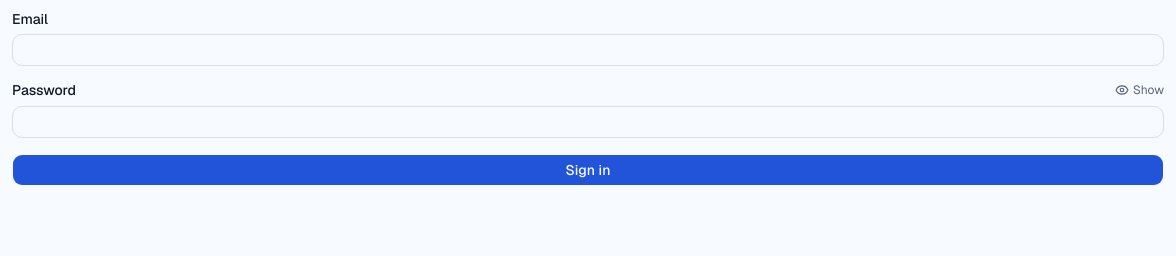
Test: LoginForm › shows the inactive-account message from a FORBIDDEN failure
The image size is (1176, 256).
Type "ada@example.com" into the field labelled "Email".
click(588, 50); type("ada@example.com")  # box [12, 34, 1164, 66]
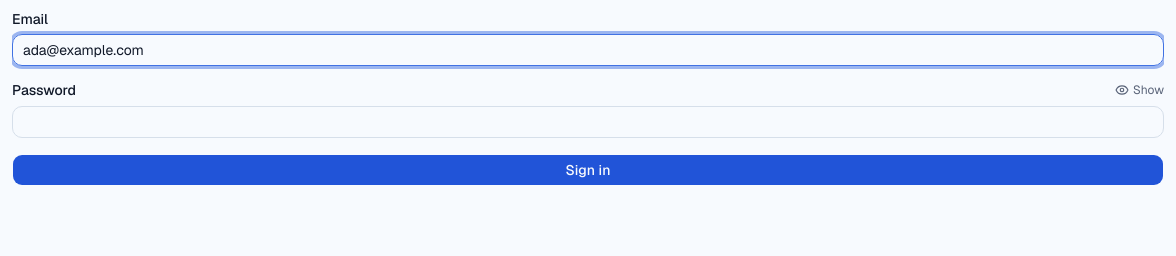
Type "correct horse battery" into the password field labelled "Password".
click(588, 122); type("correct horse battery")  # box [12, 106, 1164, 138]
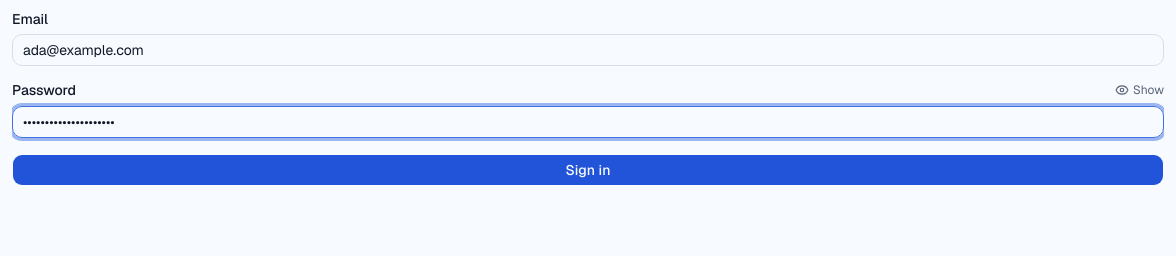
Click the button "Sign in".
click(588, 170)  # box [12, 154, 1164, 186]
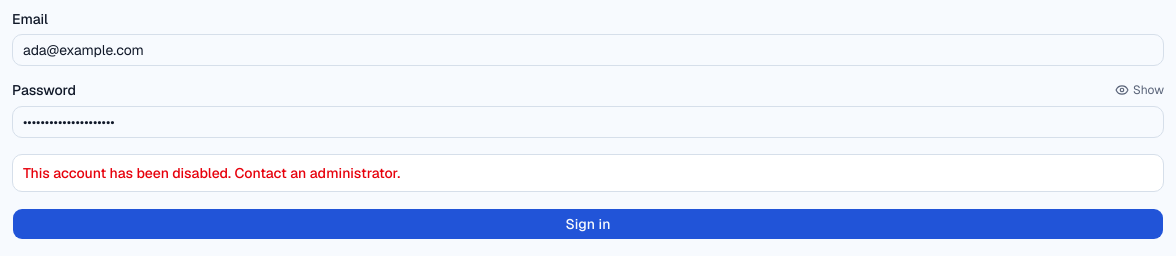
Check: the text "This account has been disabled. Contact an administrator." is shown, box [23, 164, 400, 182]
